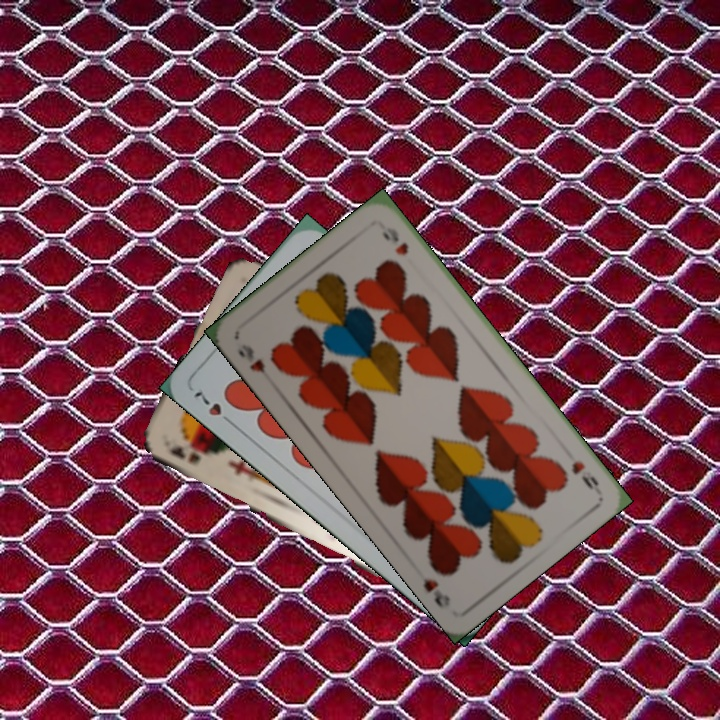H7: (190, 387, 238, 429)
H9: (234, 340, 275, 386), (567, 456, 603, 495)
SK: (164, 442, 202, 467)
